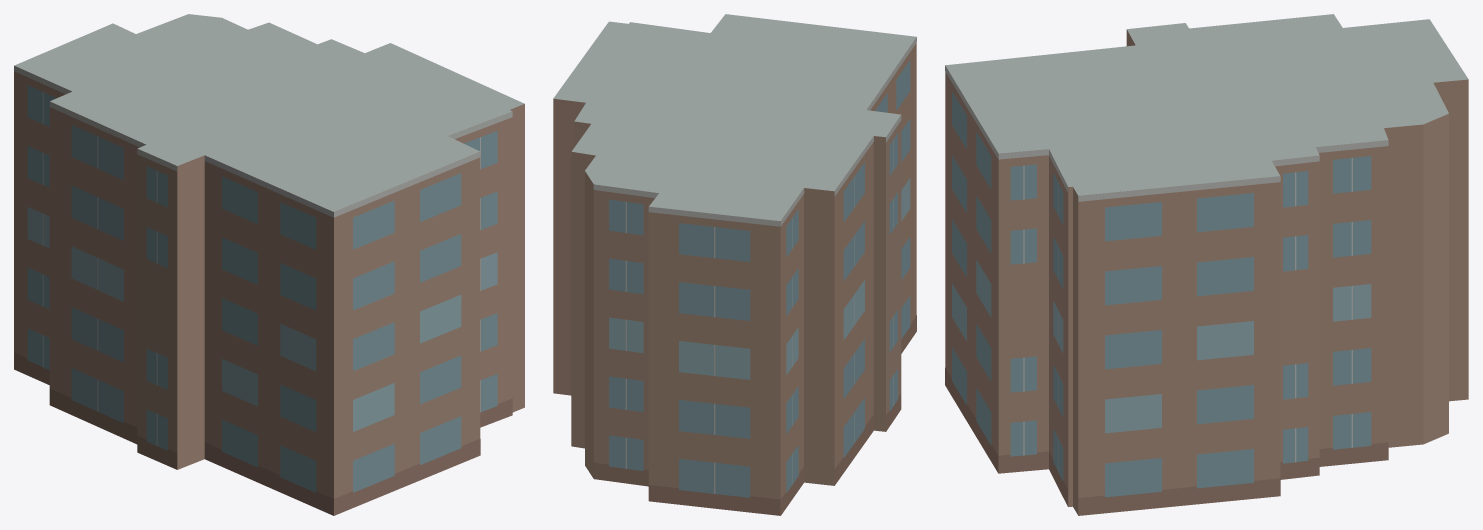
Rendered from survey-upis-32712470.glb.
The picture shows the model from 3 angles, left to right: view 1: azimuth 30°, elevation 25°; view 2: azimuth 150°, elevation 25°; view 3: azimuth 270°, elevation 25°; orthographic projection. The views are drawn at different scales.
Parts seen in each view (by area): view 1: survey-upis-32712470.tmp; view 2: survey-upis-32712470.tmp; view 3: survey-upis-32712470.tmp.
Part boxes in pixels (x1,y1,x2,y2): survey-upis-32712470.tmp: [14, 14, 524, 515]; survey-upis-32712470.tmp: [553, 14, 916, 515]; survey-upis-32712470.tmp: [945, 14, 1468, 515].
Size of the model in its own units: 15.91 by 13.05 by 19.36.
